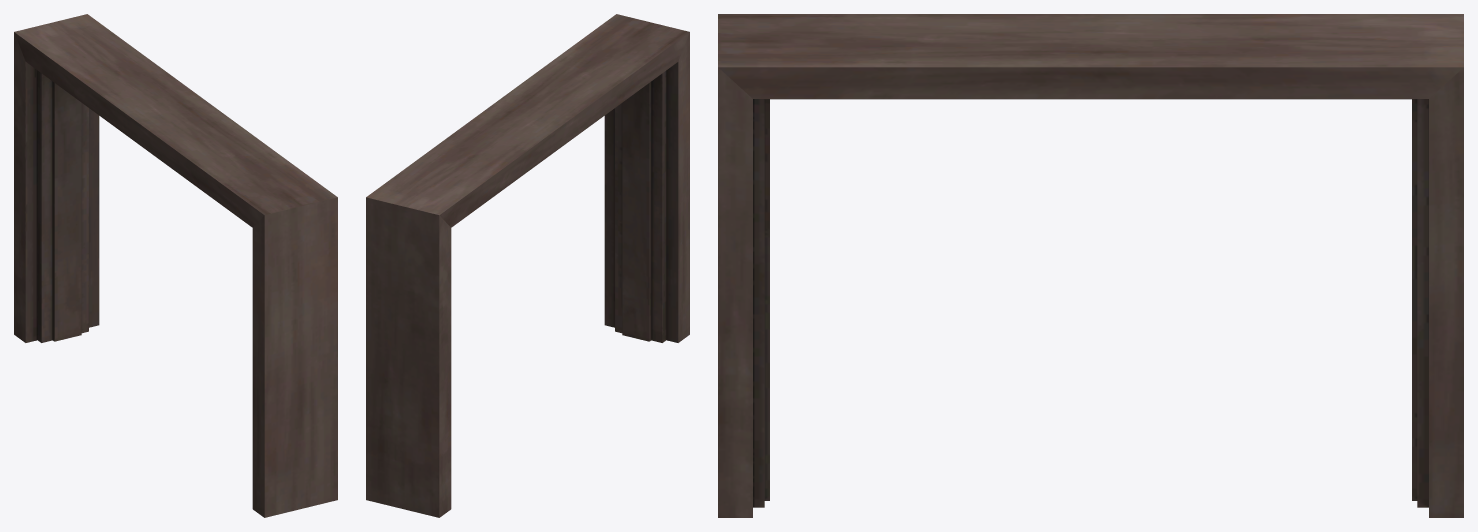
File: doorframe_02b.glb
3 renders of one model, left to right at view 1: azimuth 30°, elevation 25°; view 2: azimuth 150°, elevation 25°; view 3: azimuth 270°, elevation 25°, orthographic. The views are drawn at different scales.
Parts seen in each view (by area): view 1: doorframe_02b; view 2: doorframe_02b; view 3: doorframe_02b.
Part boxes in pixels (x1,y1,x2,y2): doorframe_02b: [14, 14, 337, 517]; doorframe_02b: [366, 14, 689, 517]; doorframe_02b: [718, 14, 1463, 517].
Size of the model in its own units: 0.6201 by 2.44 by 3.66.
1 material, 1 textured.
